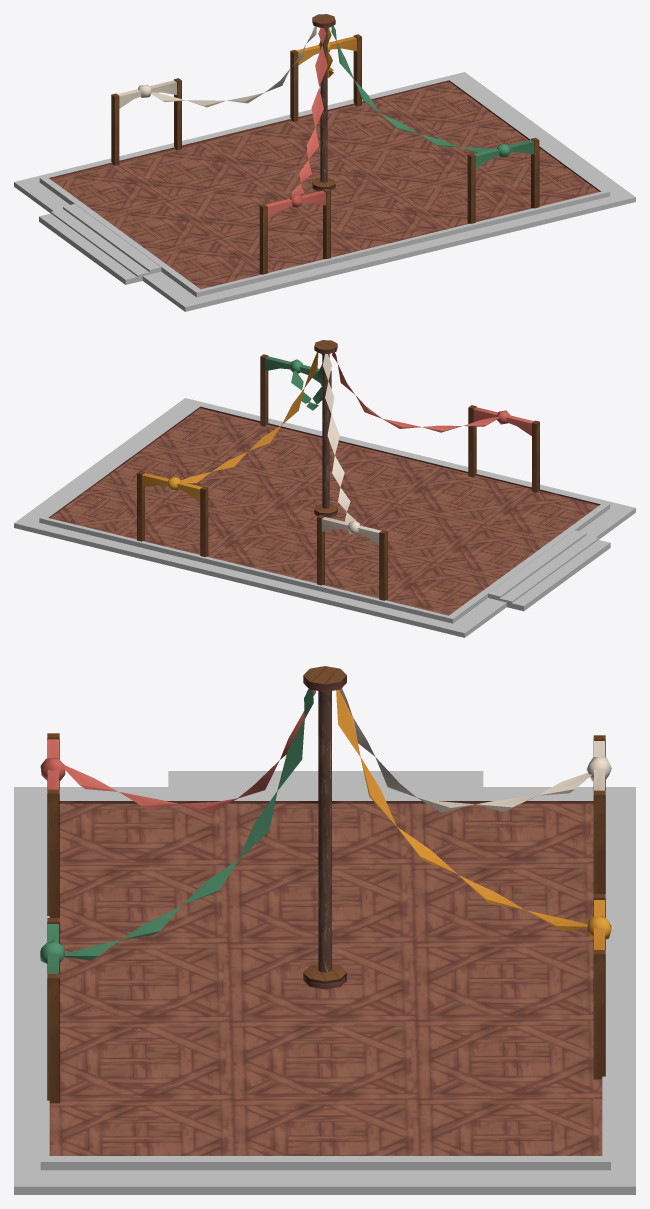
File: CenterPlatform_Art.fbx
3 views of the same model, one above another, from view 1: azimuth 30°, elevation 25°; view 2: azimuth 150°, elevation 25°; view 3: azimuth 270°, elevation 25° (orthographic). The views are drawn at different scales.
Parts seen in each view (by area): view 1: OktoberFest_CenterPlatform; view 2: OktoberFest_CenterPlatform; view 3: OktoberFest_CenterPlatform.
Boxes of the visible parts, x1,y1,x2,y2 form: OktoberFest_CenterPlatform: (14,14,635,311); OktoberFest_CenterPlatform: (14,340,635,637); OktoberFest_CenterPlatform: (14,666,635,1194).
Bounding box in the file's own units: 1943 × 697 × 1231.
